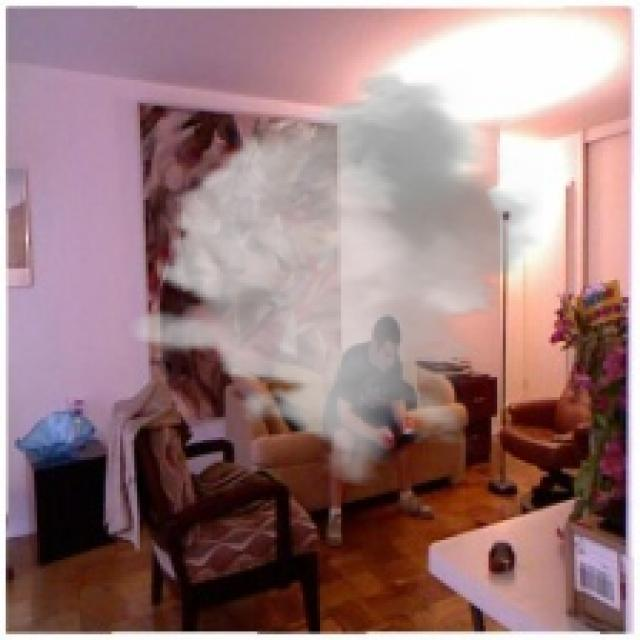Smoke: (123, 68, 543, 486)
